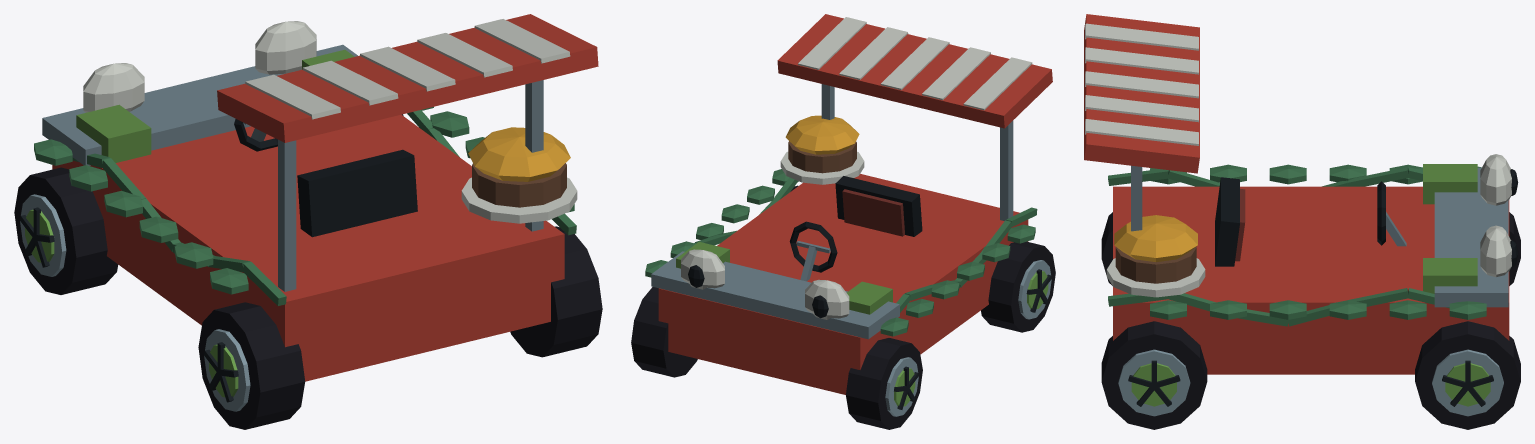
File: kart.glb
3 renders of one model, left to right at view 1: azimuth 30°, elevation 25°; view 2: azimuth 150°, elevation 25°; view 3: azimuth 270°, elevation 25°, orthographic. The views are drawn at different scales.
Parts seen in each view (by area): view 1: identity-food-cart-food-cart-counter-and-awning, wheel-rear-left, wheel-front-left, identity-food-cart-motif-vines, identity-food-cart-motif-food, identity-food-cart-driver-cockpit, wheel-rear-right, identity-food-cart-motif-eyes; view 2: identity-food-cart-food-cart-counter-and-awning, identity-food-cart-motif-vines, wheel-front-left, identity-food-cart-driver-cockpit, wheel-rear-left, identity-food-cart-motif-food, identity-food-cart-motif-eyes, wheel-front-right; view 3: identity-food-cart-food-cart-counter-and-awning, identity-food-cart-motif-vines, wheel-rear-right, wheel-front-right, identity-food-cart-motif-food, identity-food-cart-driver-cockpit, identity-food-cart-motif-eyes, wheel-rear-left, wheel-front-left.
Boxes of the visible parts, x1=… form: identity-food-cart-food-cart-counter-and-awning: x1=42, y1=14, x2=598, y2=381; wheel-rear-left: x1=198, y1=302, x2=305, y2=429; wheel-front-left: x1=14, y1=167, x2=118, y2=294; identity-food-cart-motif-vines: x1=34, y1=107, x2=576, y2=305; identity-food-cart-motif-food: x1=461, y1=127, x2=577, y2=223; identity-food-cart-driver-cockpit: x1=234, y1=119, x2=417, y2=237; wheel-rear-right: x1=510, y1=226, x2=602, y2=357; identity-food-cart-motif-eyes: x1=83, y1=21, x2=316, y2=112; identity-food-cart-food-cart-counter-and-awning: x1=651, y1=14, x2=1052, y2=394; identity-food-cart-motif-vines: x1=645, y1=169, x2=1037, y2=336; wheel-front-left: x1=846, y1=338, x2=922, y2=429; identity-food-cart-driver-cockpit: x1=789, y1=176, x2=922, y2=281; wheel-rear-left: x1=981, y1=241, x2=1055, y2=332; identity-food-cart-motif-food: x1=780, y1=115, x2=864, y2=184; identity-food-cart-motif-eyes: x1=681, y1=249, x2=849, y2=319; wheel-front-right: x1=631, y1=287, x2=697, y2=377; identity-food-cart-food-cart-counter-and-awning: x1=1084, y1=14, x2=1509, y2=374; identity-food-cart-motif-vines: x1=1108, y1=164, x2=1486, y2=326; wheel-rear-right: x1=1101, y1=321, x2=1207, y2=429; wheel-front-right: x1=1415, y1=321, x2=1520, y2=429; identity-food-cart-motif-food: x1=1106, y1=215, x2=1205, y2=297; identity-food-cart-driver-cockpit: x1=1215, y1=177, x2=1406, y2=266; identity-food-cart-motif-eyes: x1=1480, y1=154, x2=1518, y2=277; wheel-rear-left: x1=1101, y1=212, x2=1112, y2=285; wheel-front-left: x1=1509, y1=212, x2=1520, y2=285.
Size of the model in its own units: 2.03 by 1.76 by 2.48.
